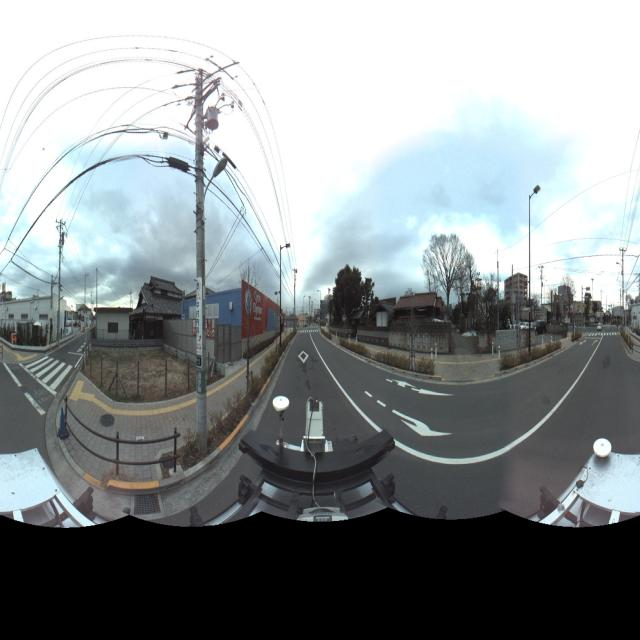b_1: (135, 264, 194, 354), (0, 290, 69, 356), (91, 299, 137, 360), (504, 270, 532, 339), (572, 290, 602, 331)
